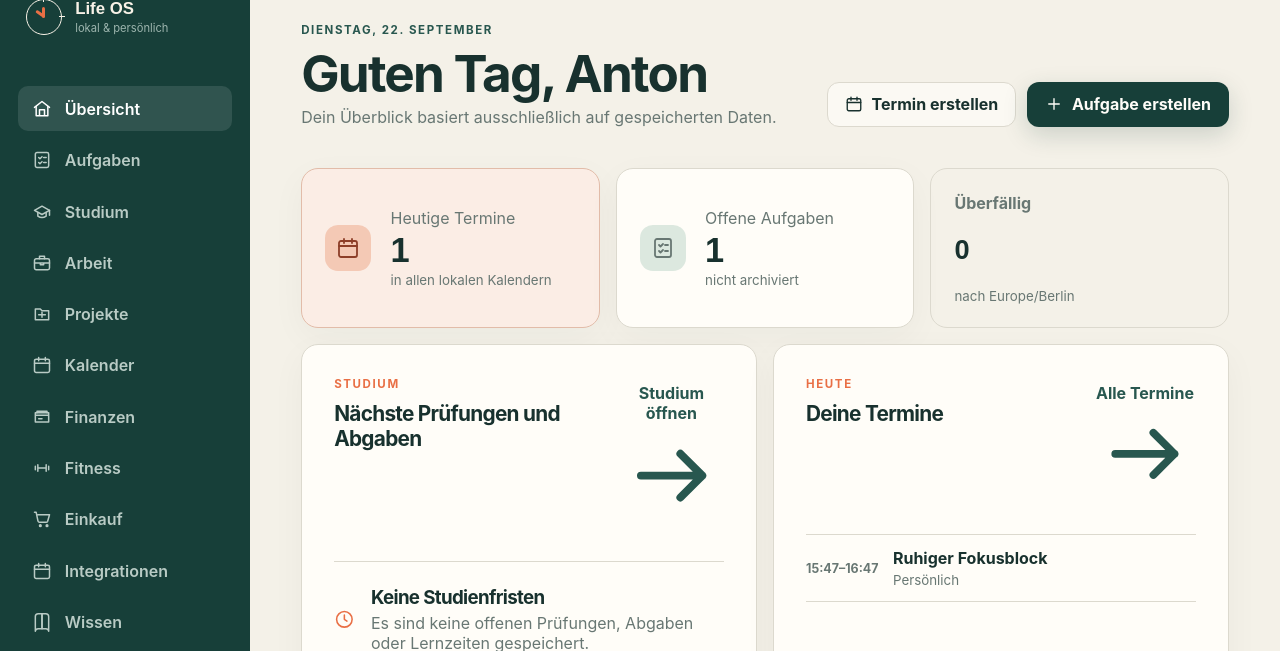
Scenario: LifeOS-Weboberfläche › zeigt Dashboard und Kalendertermine nach erfolgreichem Laden
The image size is (1280, 651).
expect the heading "Guten Tag, Anton" is shown: met, box [301,48,776,99]
expect the text "Ruhiger Fokusblock" is shown: met, box [893,548,1048,568]
Click the button "Kalender".
click(125, 365)  # box [18,343,232,388]
(page scrolled)
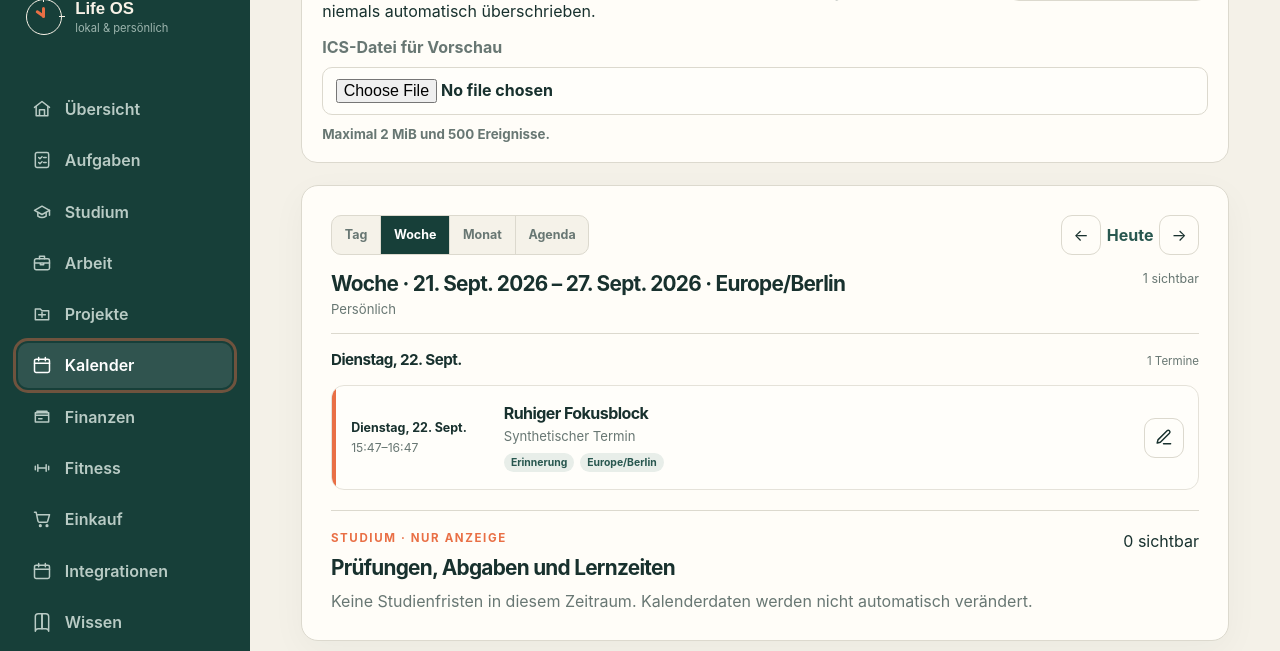
expect the button named "Ruhiger Fokusblock bearbeiten" is shown: met, box [1144,418,1184,458]
